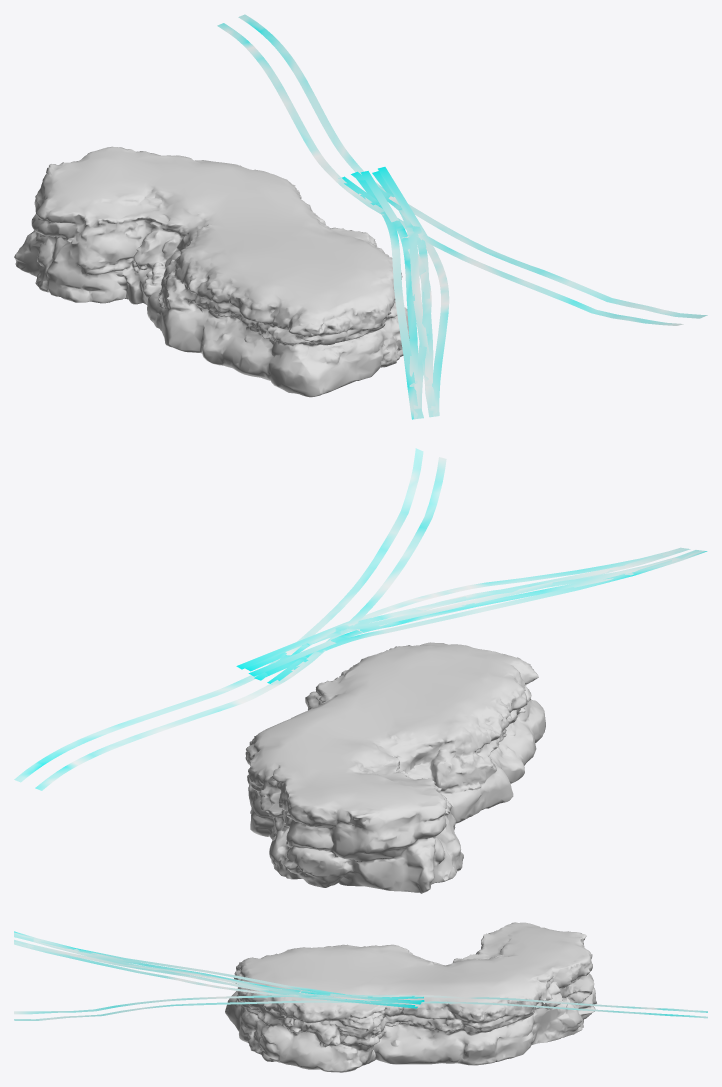
File: cell_167_120.fbx
3 renders of one model, top to bottom at view 1: azimuth 30°, elevation 25°; view 2: azimuth 150°, elevation 25°; view 3: azimuth 270°, elevation 25°, orthographic. The views are drawn at different scales.
Visible parts, largest first — view 1: SM_Nature_Rock_Cliff_18.mo.002, SpaceCenter_Long3_GenerateRoad_Sand_TireTracks_Narrow_Mesh_x; view 2: SM_Nature_Rock_Cliff_18.mo.002, SpaceCenter_Long3_GenerateRoad_Sand_TireTracks_Narrow_Mesh_x; view 3: SM_Nature_Rock_Cliff_18.mo.002, SpaceCenter_Long3_GenerateRoad_Sand_TireTracks_Narrow_Mesh_x.
Part boxes in pixels (x1,y1,x2,y2): SM_Nature_Rock_Cliff_18.mo.002: (14, 146, 409, 397); SpaceCenter_Long3_GenerateRoad_Sand_TireTracks_Narrow_Mesh_x: (217, 14, 707, 419); SM_Nature_Rock_Cliff_18.mo.002: (245, 642, 545, 893); SpaceCenter_Long3_GenerateRoad_Sand_TireTracks_Narrow_Mesh_x: (14, 448, 707, 790); SM_Nature_Rock_Cliff_18.mo.002: (225, 922, 596, 1072); SpaceCenter_Long3_GenerateRoad_Sand_TireTracks_Narrow_Mesh_x: (14, 931, 707, 1020).
Bounding box in the file's own units: 30.18 × 9.67 × 64.
